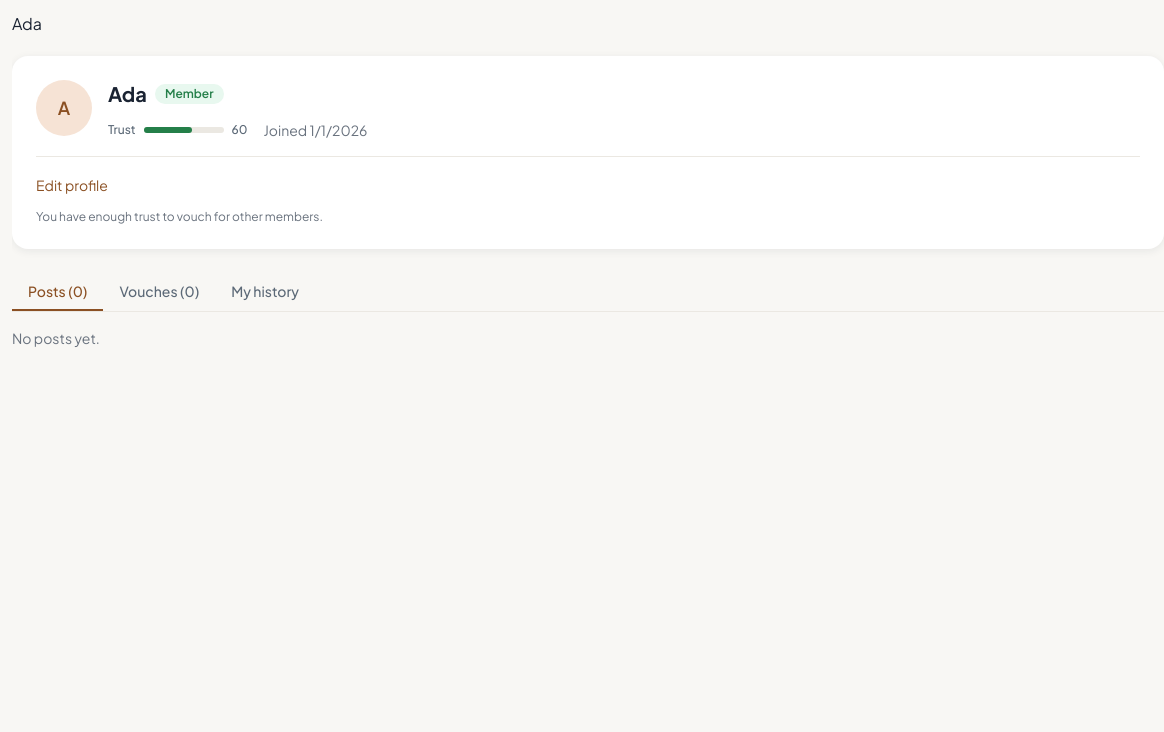
Test: Profile — saving your own profile › tells the rest of the app the member's new name
Click the button "Edit profile".
click(72, 185)  # box [36,175,108,195]
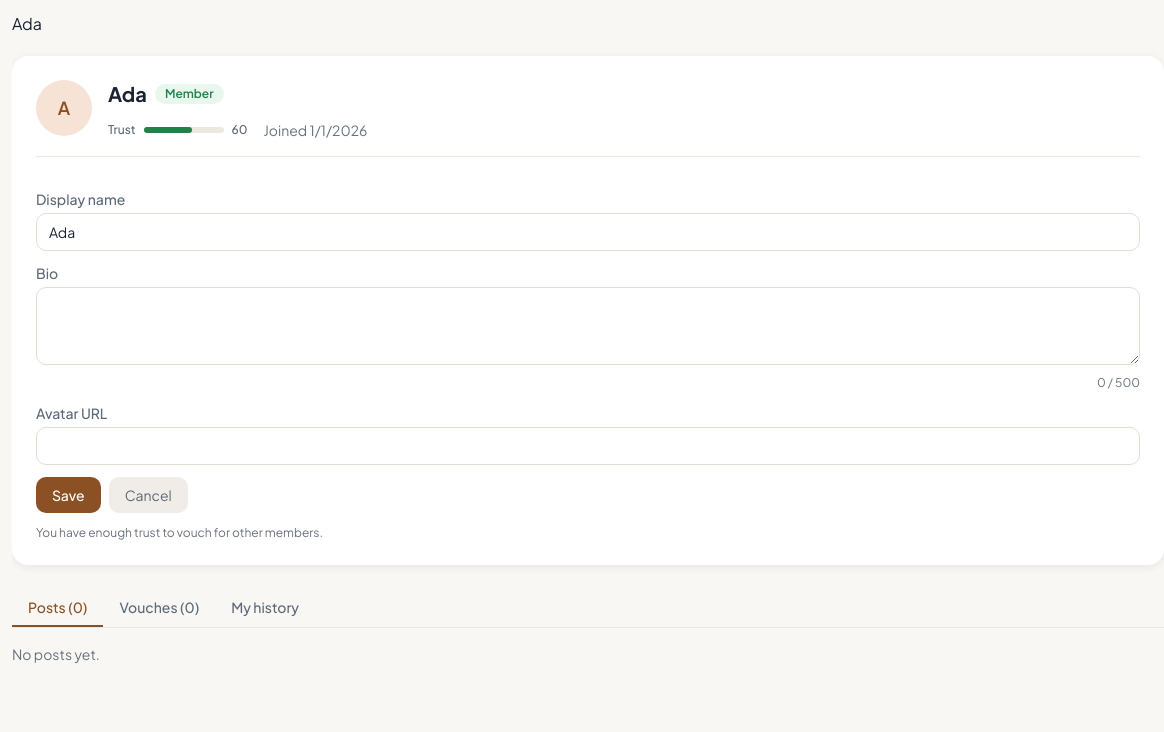
Replace the text in the field showing "Ada" below "Display name" with "Ada Lovelace" at (588,232), box [36,213,1140,251]
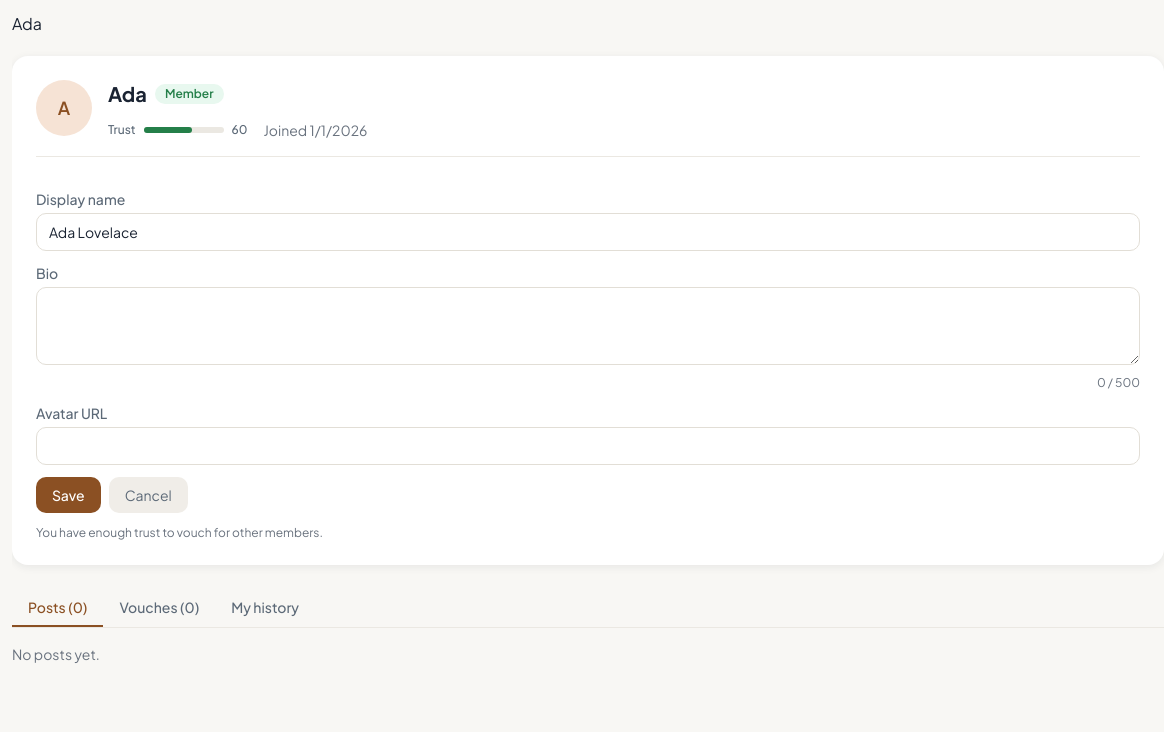
Click the button "Save".
click(68, 495)  # box [36,477,101,513]
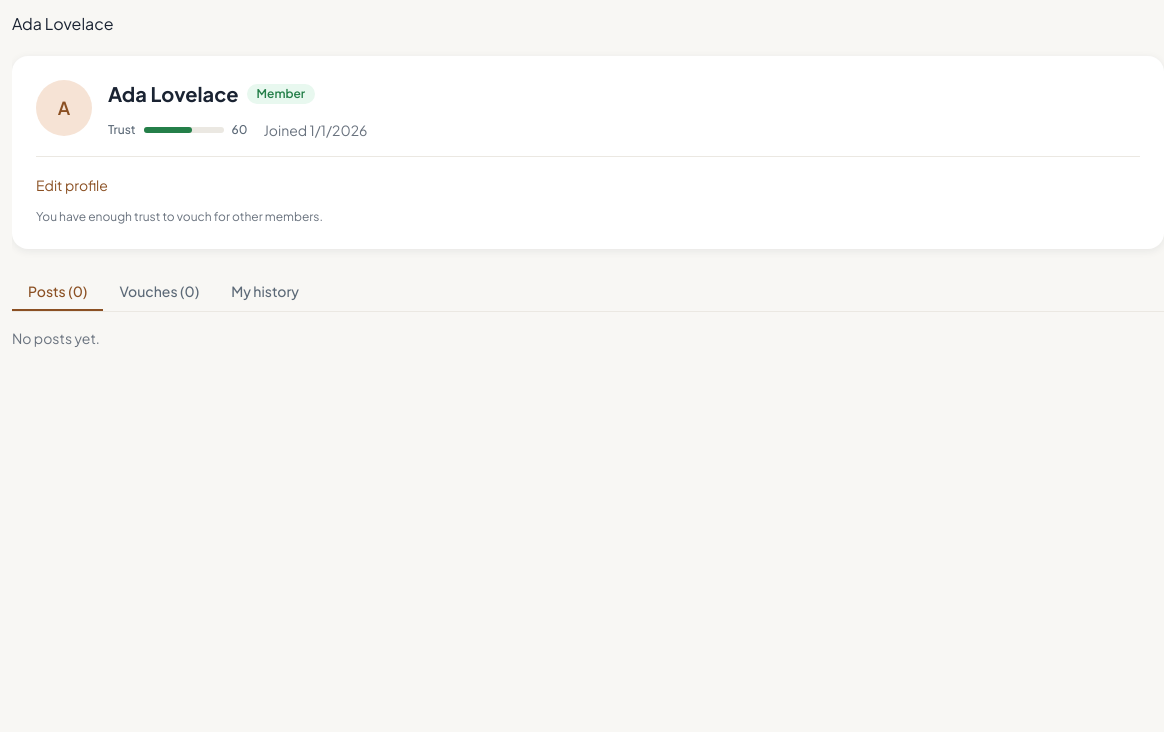
Expected: the text with test id "context-name" reads "Ada Lovelace", [12,13,114,34]
